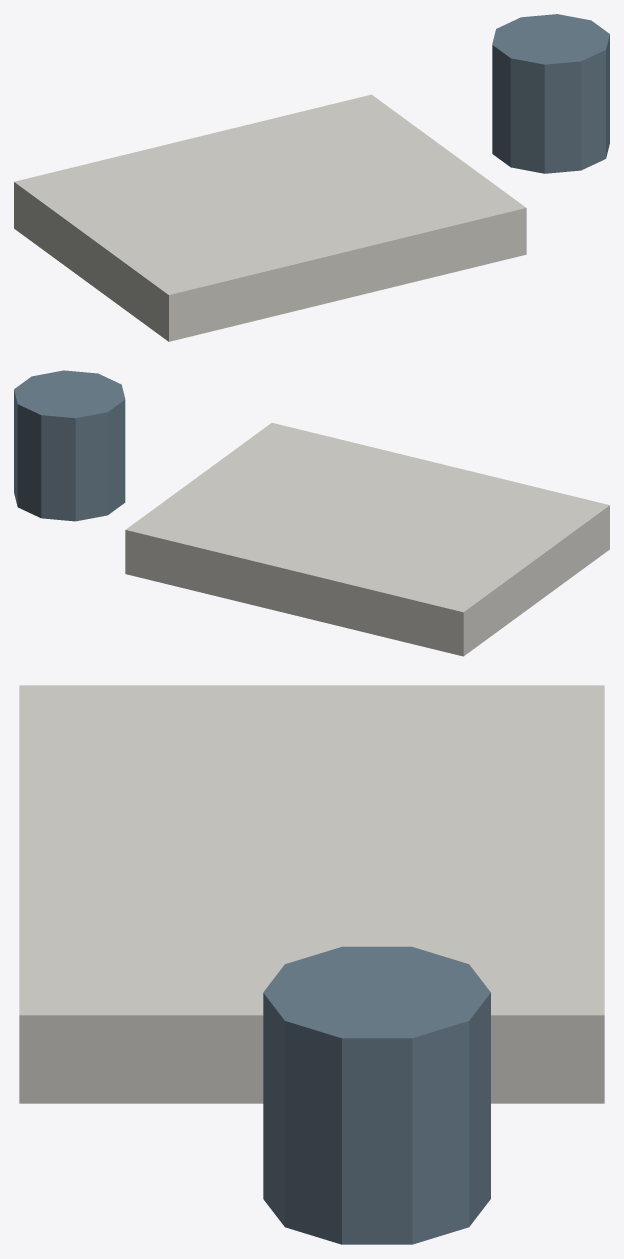
The model's file is desk-clutter.glb.
The picture shows the model from 3 angles, top to bottom: view 1: azimuth 30°, elevation 25°; view 2: azimuth 150°, elevation 25°; view 3: azimuth 270°, elevation 25°; orthographic projection. The views are drawn at different scales.
Visible parts, largest first — view 1: DeskClutter; view 2: DeskClutter; view 3: DeskClutter.
Boxes of the visible parts, bbox=[...] form: DeskClutter: bbox=[14, 14, 609, 341]; DeskClutter: bbox=[14, 370, 609, 656]; DeskClutter: bbox=[19, 685, 604, 1244].
Bounding box in the file's own units: 0.3533 × 0.075 × 0.18.
